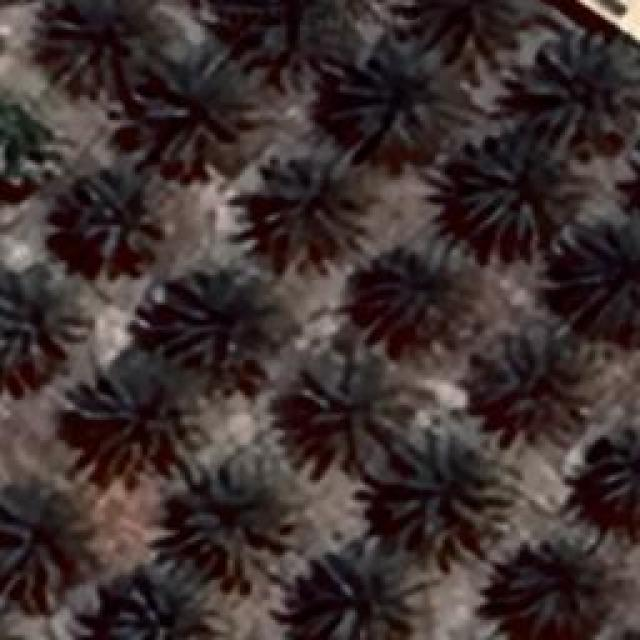PalmTree: (380, 418, 515, 550), (154, 252, 298, 370), (78, 347, 208, 475), (330, 29, 468, 142), (455, 128, 583, 248), (125, 22, 472, 65), (172, 460, 290, 585), (140, 49, 258, 172), (305, 534, 430, 638), (252, 140, 370, 250), (40, 0, 168, 95), (362, 238, 476, 338), (525, 35, 633, 140), (480, 318, 590, 418), (277, 341, 375, 449), (0, 257, 92, 362), (502, 530, 600, 628), (78, 165, 168, 258), (562, 215, 636, 328), (3, 500, 78, 605), (110, 568, 222, 638), (0, 105, 58, 205), (595, 425, 635, 515)
